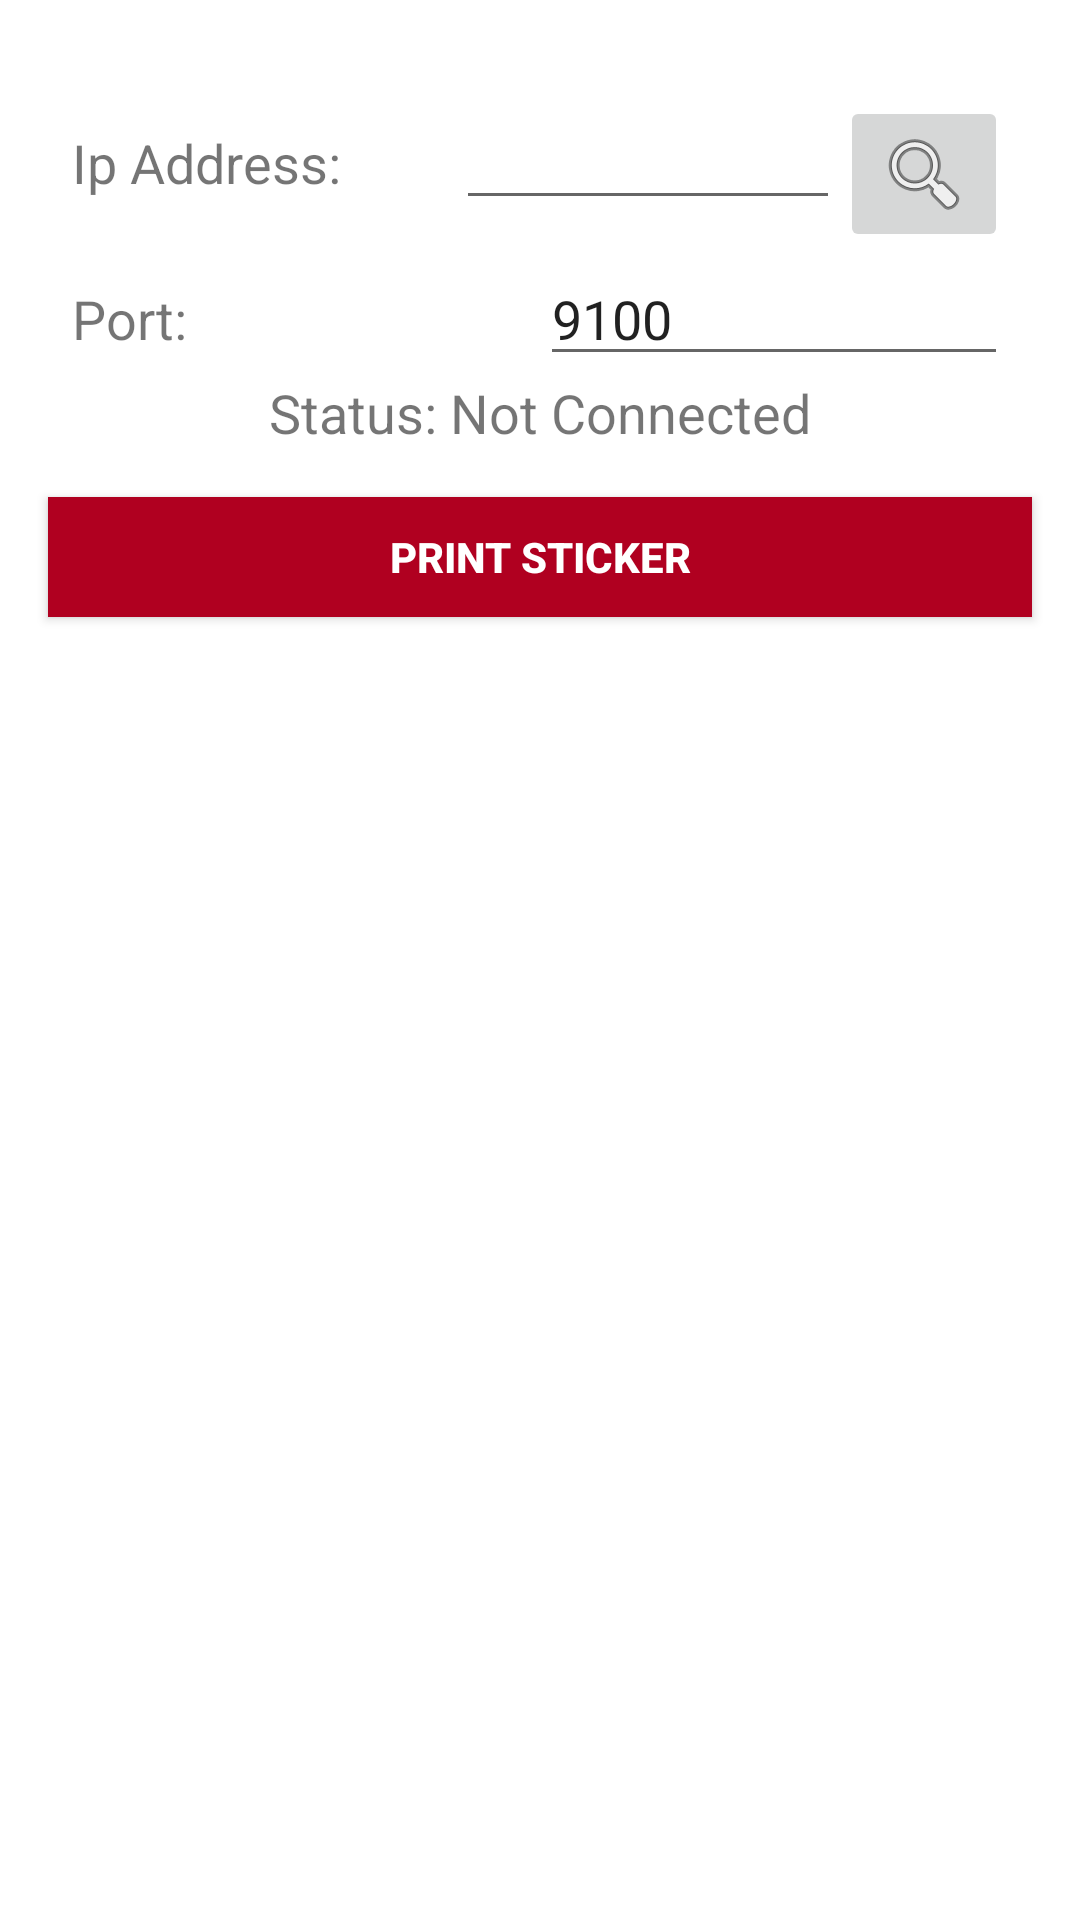

Icons on this 1080 x 1920 Android screen, each with the point to tap as (x,y):
search: (924,174)
